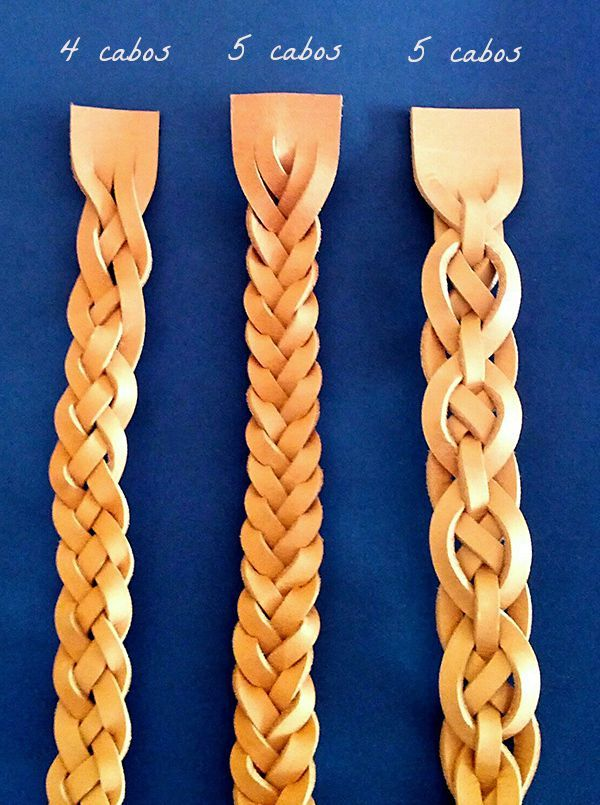cuero: (46, 90, 544, 805)
